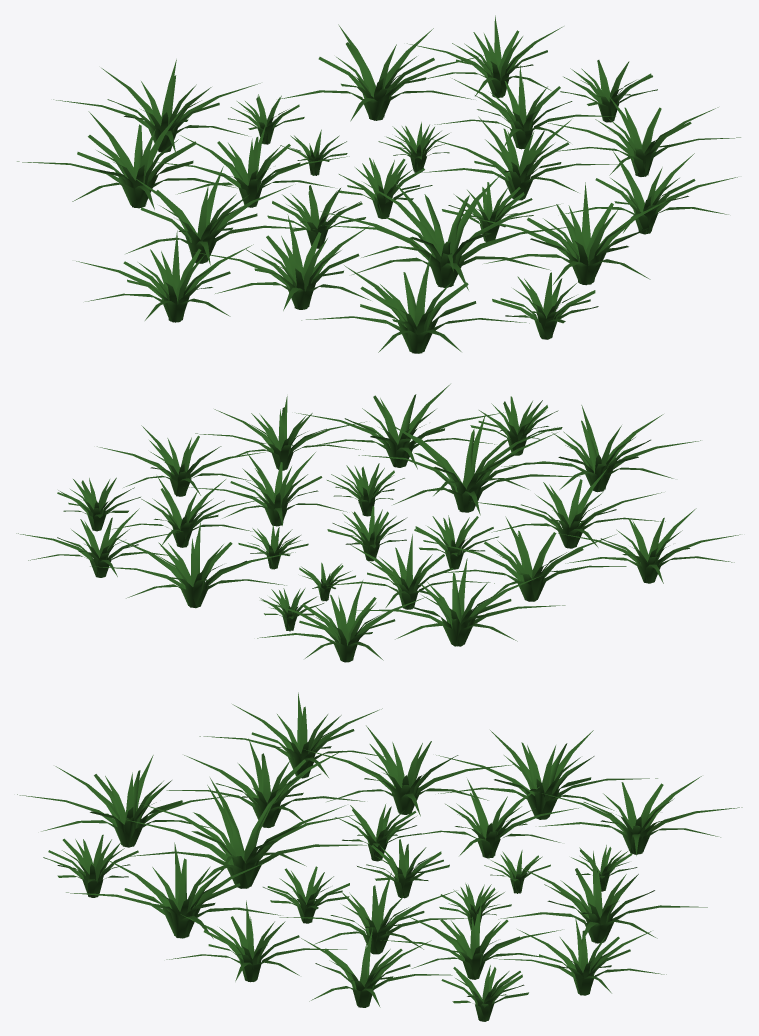
Rendered from SM_Grass_001_LOD2.fbx.
3 views of the same model, one above another, from view 1: azimuth 30°, elevation 25°; view 2: azimuth 150°, elevation 25°; view 3: azimuth 270°, elevation 25° (orthographic). The views are drawn at different scales.
Visible parts, largest first — view 1: Grass; view 2: Grass; view 3: Grass.
Part boxes in pixels (bbox=[...]): Grass: bbox=[17, 15, 740, 353]; Grass: bbox=[16, 384, 740, 662]; Grass: bbox=[17, 692, 742, 1021].
Bounding box in the file's own units: 576 × 53.76 × 565.
